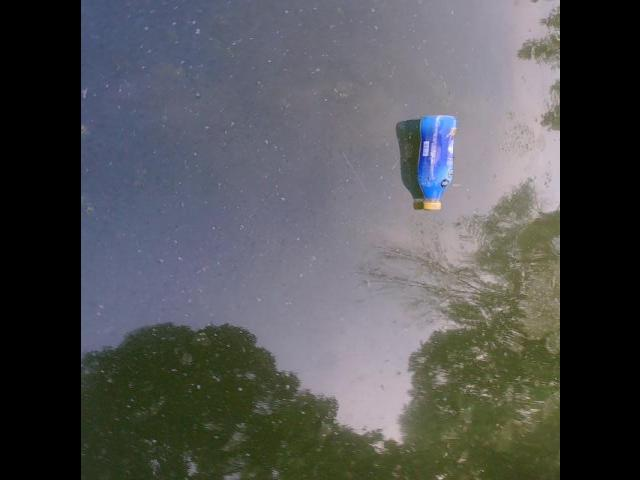Bottle: (406, 106, 462, 218)
